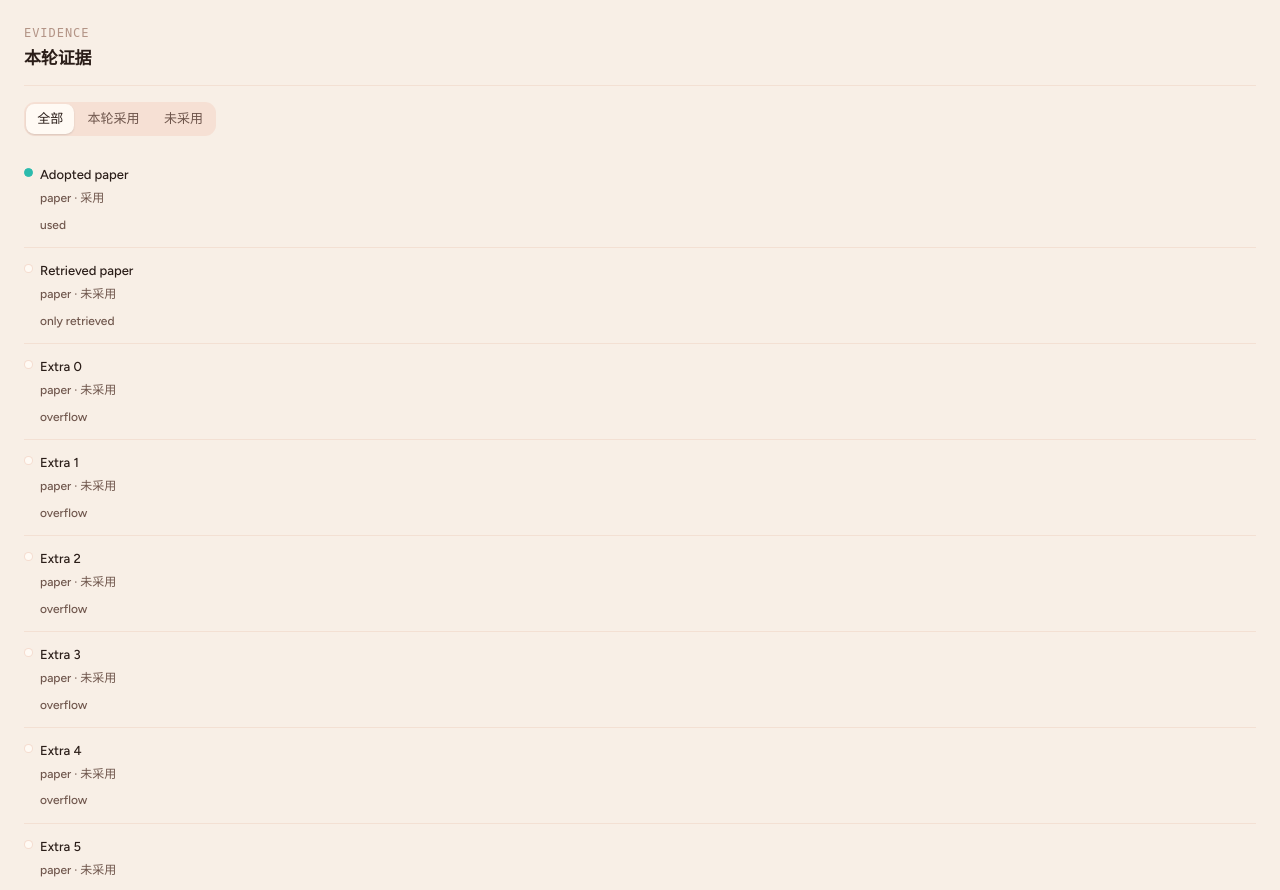
Test case: EvidencePanel › filters to adopted evidence
This screenshot has width=1280, height=890.
Click the button "本轮采用" at (114, 119), box [76,104,151,134]
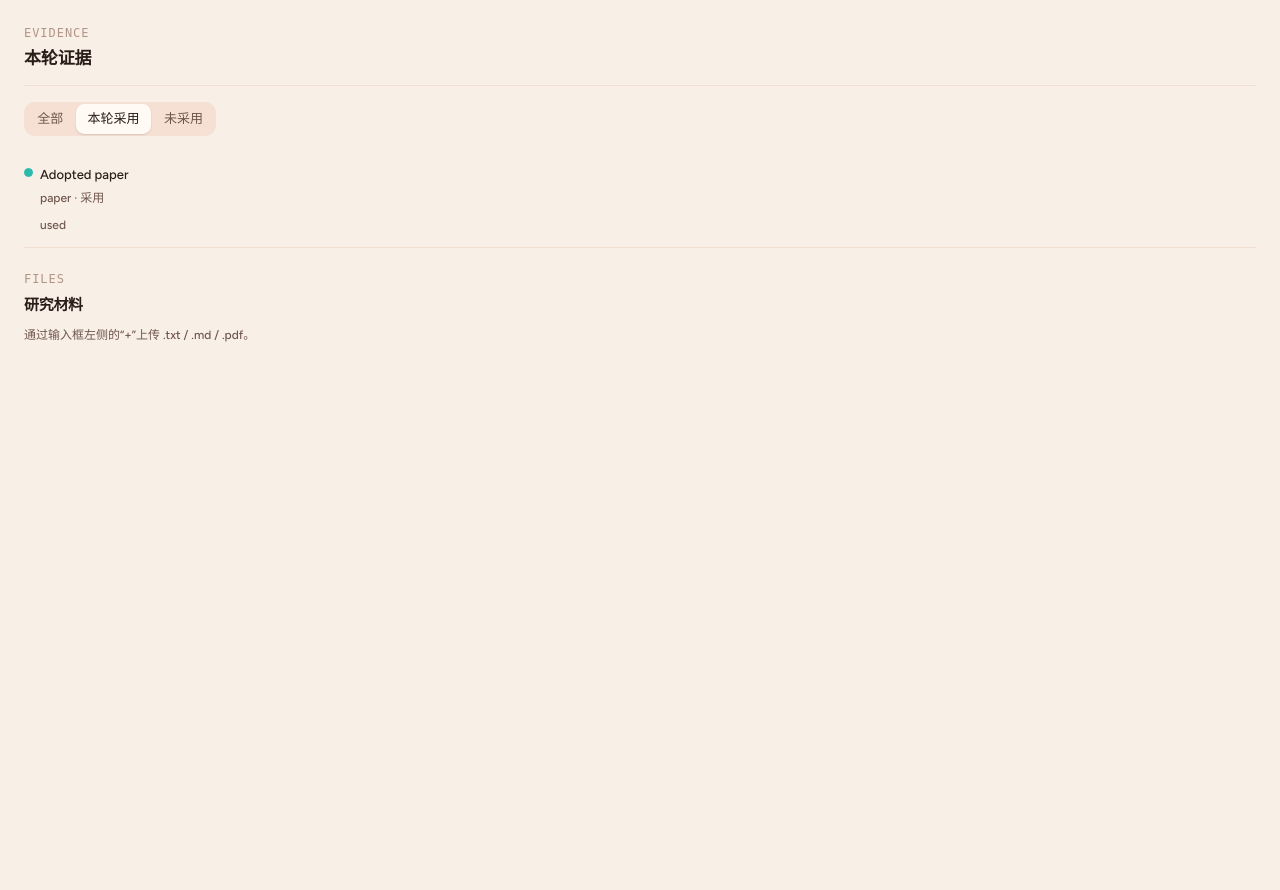
Check: the text "Adopted paper" is shown, box [40,167,128,182]
Check: the link "Retrieved paper" is gone
